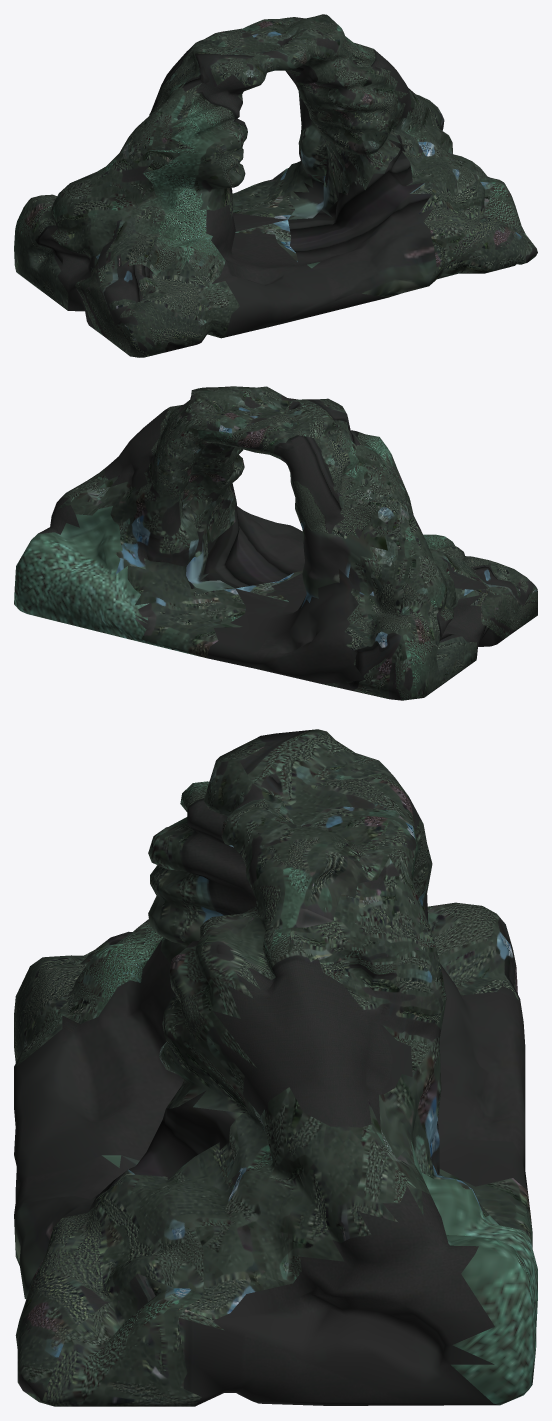
File: ShadowlandsCaveEntrance.obj
The picture shows the model from 3 angles, top to bottom: view 1: azimuth 30°, elevation 25°; view 2: azimuth 150°, elevation 25°; view 3: azimuth 270°, elevation 25°; orthographic projection. The views are drawn at different scales.
Parts seen in each view (by area): view 1: tripo_node_38e0d0f0-2154-492f-8fbe-42ac62ee03b4; view 2: tripo_node_38e0d0f0-2154-492f-8fbe-42ac62ee03b4; view 3: tripo_node_38e0d0f0-2154-492f-8fbe-42ac62ee03b4.
Boxes of the visible parts, x1,y1,x2,y2 form: tripo_node_38e0d0f0-2154-492f-8fbe-42ac62ee03b4: (14,14,537,357); tripo_node_38e0d0f0-2154-492f-8fbe-42ac62ee03b4: (14,386,537,700); tripo_node_38e0d0f0-2154-492f-8fbe-42ac62ee03b4: (14,729,537,1406).
Bounding box in the file's own units: 0.998 × 0.5098 × 0.5723.
1 material, 1 textured.
